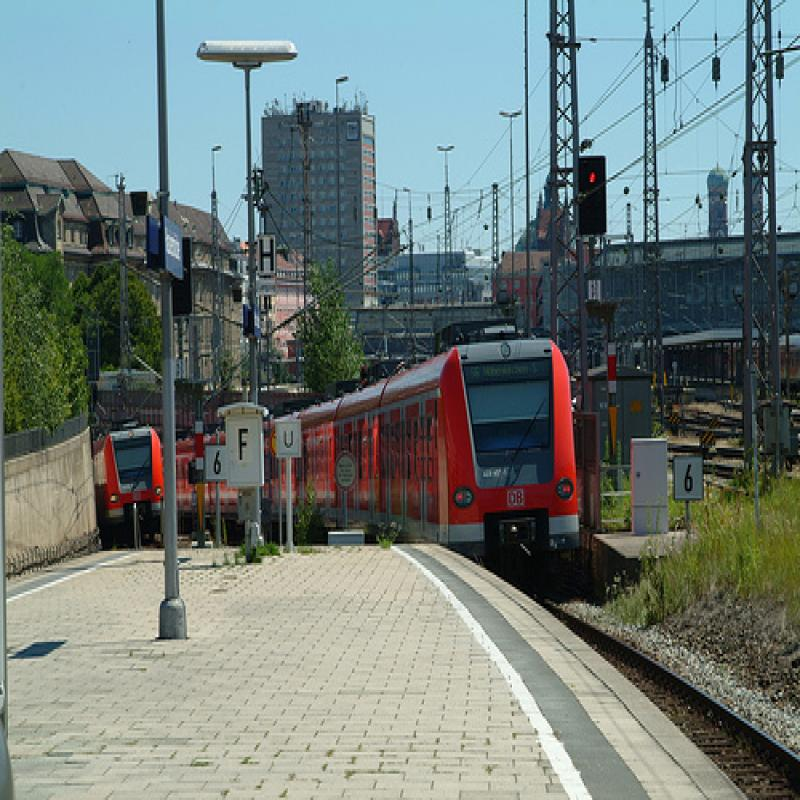train: (177, 320, 583, 583), (92, 422, 166, 552)
